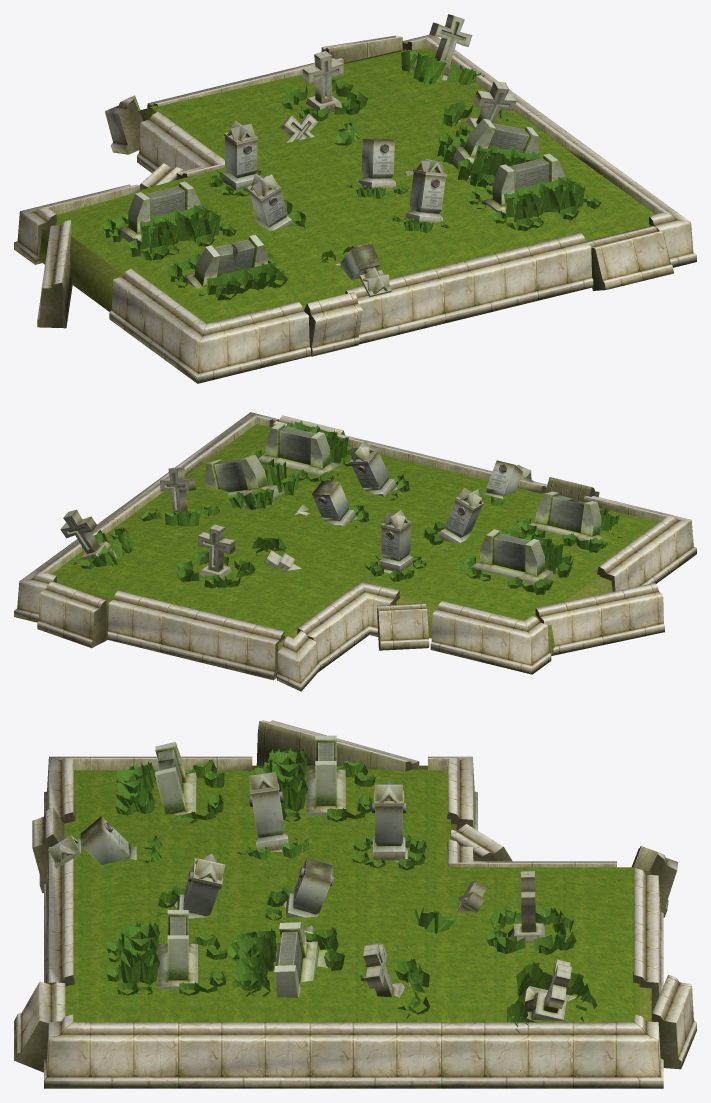
The model's file is a_SWTpart05a.glb.
3 renders of one model, top to bottom at view 1: azimuth 30°, elevation 25°; view 2: azimuth 150°, elevation 25°; view 3: azimuth 270°, elevation 25°, orthographic. The views are drawn at different scales.
Parts seen in each view (by area): view 1: a_SWTpart05a; view 2: a_SWTpart05a; view 3: a_SWTpart05a.
Part boxes in pixels (x1=…): a_SWTpart05a: x1=14, y1=14, x2=696, y2=383; a_SWTpart05a: x1=14, y1=412, x2=696, y2=691; a_SWTpart05a: x1=14, y1=720, x2=696, y2=1088.
Bounding box in the file's own units: 12.37 × 2.4 × 11.02.
Materials: 9 (9 with a texture image).
